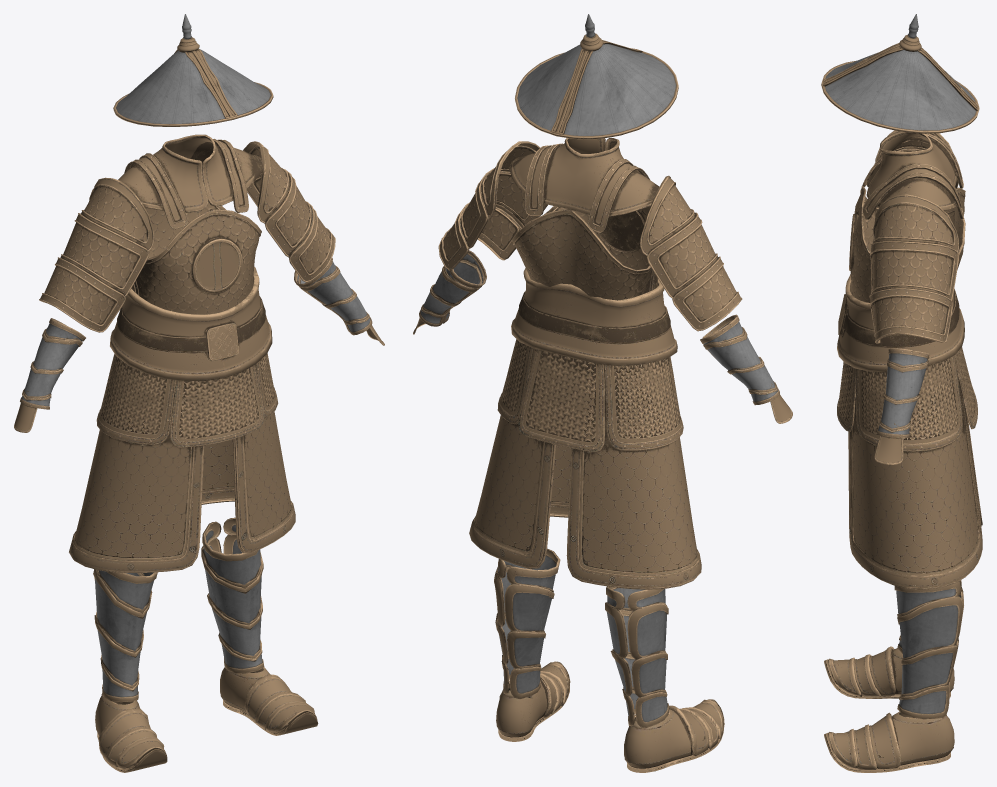
Rendered from soldier_armor.glb.
3 views of the same model, side by side, from view 1: azimuth 30°, elevation 25°; view 2: azimuth 150°, elevation 25°; view 3: azimuth 270°, elevation 25° (orthographic). The views are drawn at different scales.
Visible parts, largest first — view 1: Side_skirt1_low, Shoulder3_low, leg_low, Body_piece_low, Waist_cushion1_low, main_low, Side_skirt3_low, Neck_low, Side_skirt2_low, Arm_low, shoes_top_low, shoulder_strap_low (+8 smaller); view 2: Side_skirt1_low, Shoulder3_low, leg_low, main_low, Body_piece_low, Waist_cushion1_low, Side_skirt3_low, Side_skirt2_low, Neck_low, Arm_low, shoes_main1_low, shoulder_strap_low (+5 smaller); view 3: Side_skirt1_low, Shoulder3_low, main_low, leg_low, Side_skirt3_low, shoes_top_low, Neck_low, Waist_cushion1_low, Arm_low, shoes_main1_low, Body_piece_low, shoulder_strap_low (+7 smaller).
Boxes of the visible parts, <box> form: Side_skirt1_low: <box>69,411,295,572</box>; Shoulder3_low: <box>39,141,335,332</box>; leg_low: <box>93,517,264,702</box>; Body_piece_low: <box>131,201,261,314</box>; Waist_cushion1_low: <box>110,255,272,380</box>; main_low: <box>116,49,270,123</box>; Side_skirt3_low: <box>96,353,278,444</box>; Neck_low: <box>118,134,262,212</box>; Side_skirt2_low: <box>170,365,264,447</box>; Arm_low: <box>20,258,372,409</box>; shoes_top_low: <box>98,674,317,767</box>; shoulder_strap_low: <box>124,138,248,229</box>; Side_skirt1_low: <box>469,395,701,589</box>; Shoulder3_low: <box>438,141,742,331</box>; leg_low: <box>494,548,669,727</box>; main_low: <box>517,44,675,135</box>; Body_piece_low: <box>511,206,657,300</box>; Waist_cushion1_low: <box>511,268,677,365</box>; Side_skirt3_low: <box>497,339,683,450</box>; Side_skirt2_low: <box>518,349,604,452</box>; Neck_low: <box>509,138,659,216</box>; Arm_low: <box>419,250,779,405</box>; shoes_main1_low: <box>496,679,704,768</box>; shoulder_strap_low: <box>525,143,649,232</box>; Side_skirt1_low: <box>848,374,982,589</box>; Shoulder3_low: <box>869,130,959,343</box>; main_low: <box>825,50,975,130</box>; leg_low: <box>894,580,963,719</box>; Side_skirt3_low: <box>855,355,962,451</box>; shoes_top_low: <box>828,646,900,769</box>; Neck_low: <box>866,131,957,210</box>; Waist_cushion1_low: <box>837,274,964,372</box>; Arm_low: <box>876,348,929,438</box>; shoes_main1_low: <box>843,648,954,767</box>; Body_piece_low: <box>850,186,965,302</box>; shoulder_strap_low: <box>862,133,963,219</box>.
Size of the model in its own units: 1.01 by 1.88 by 0.3864.
Materials: 3 (3 with a texture image).
